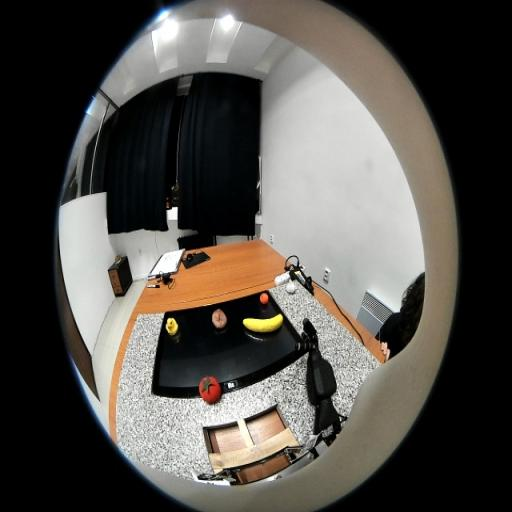Banana: (242, 313, 284, 333)
Duck: (166, 318, 178, 336)
Mushroom: (212, 309, 227, 329)
Orange: (260, 293, 269, 304)
RightHand: (309, 335, 318, 353)
Tomato: (199, 375, 221, 403)
